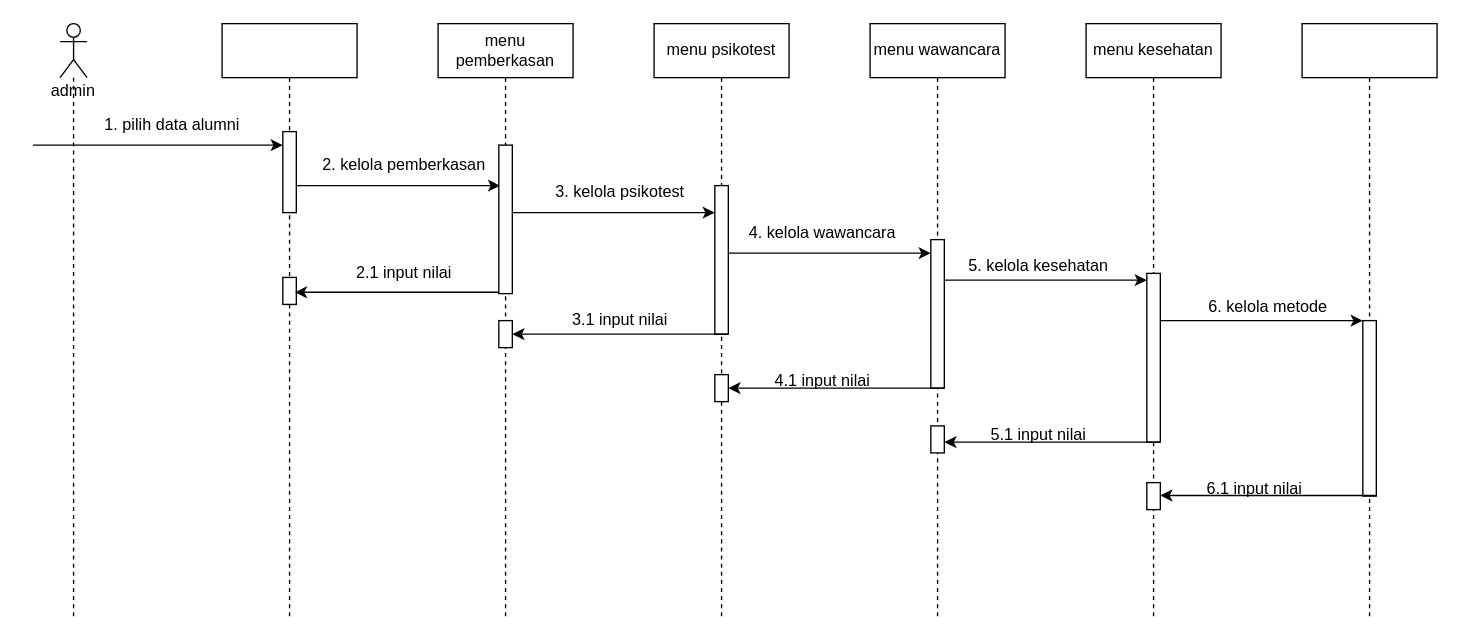
The diagram is 1461 pixels wide and 641 high, and some of its shapes have lost their labels. The centre of each missing label's shape, as x and y in pixels:
"menu metode" goes at [1369,320].
"menu proses tahap penerimaan" goes at [289,320].
